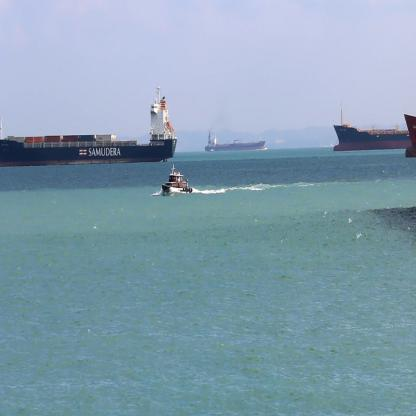Container Ship: (0, 83, 177, 167), (332, 108, 410, 152), (204, 129, 266, 152), (403, 113, 415, 159)
